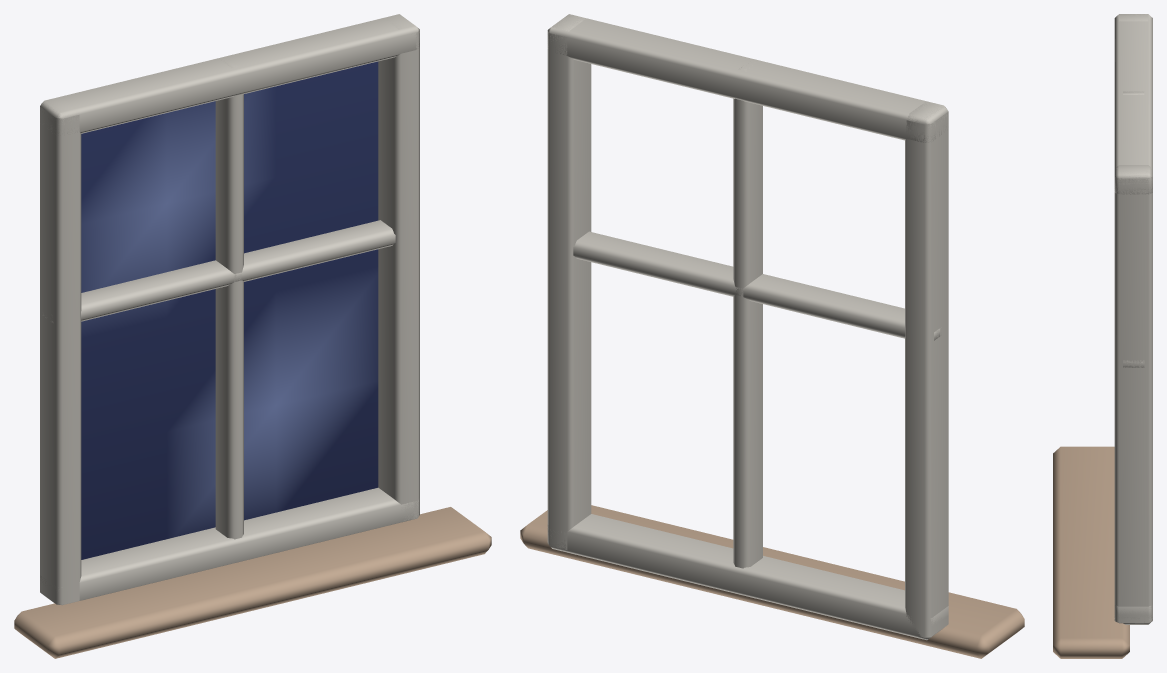
File: window_dark.glb
3 views of the same model, side by side, from view 1: azimuth 30°, elevation 25°; view 2: azimuth 150°, elevation 25°; view 3: azimuth 270°, elevation 25° (orthographic). The views are drawn at different scales.
Parts seen in each view (by area): view 1: window_dark, glass; view 2: window_dark; view 3: window_dark.
Boxes of the visible parts, x1,y1,x2,y2 form: window_dark: [14, 14, 491, 658]; glass: [81, 61, 378, 559]; window_dark: [520, 14, 1024, 658]; window_dark: [1053, 14, 1152, 658].
Size of the model in its own units: 1.22 by 1.35 by 0.26.
